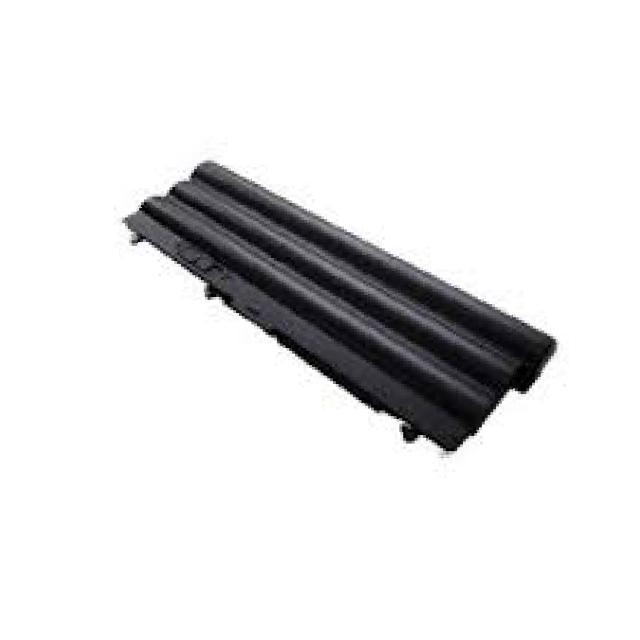Battery: (79, 96, 640, 561)
